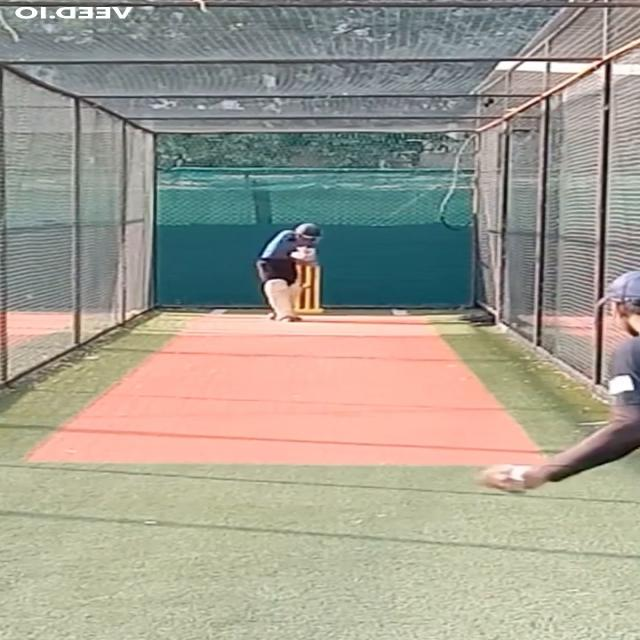ball: (299, 282, 314, 289)
stump: (290, 265, 325, 314)
